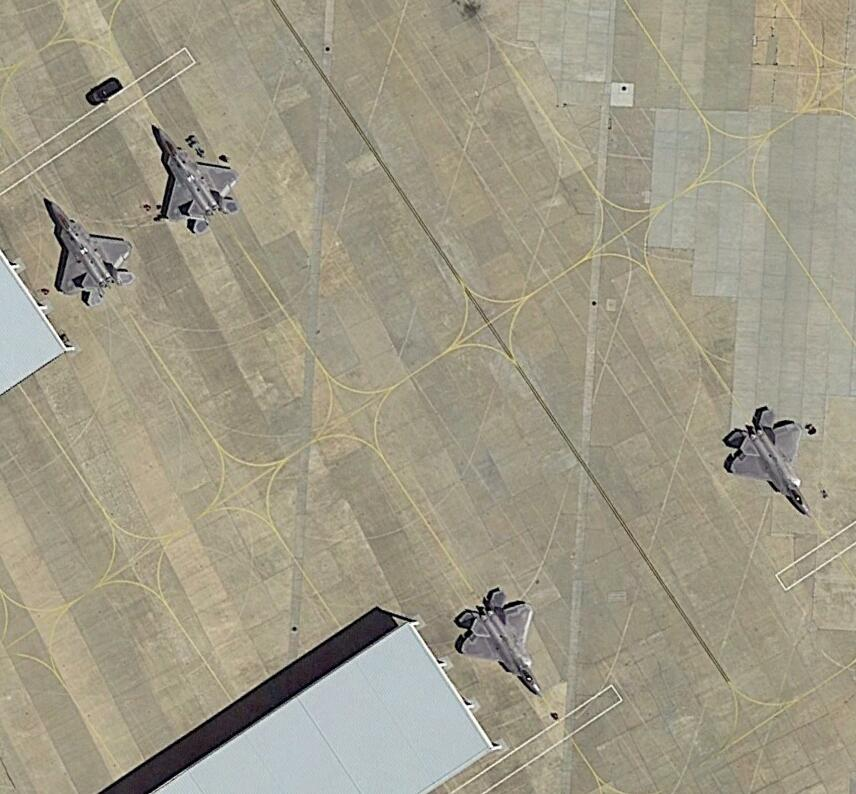A15: (452, 584, 547, 702), (721, 407, 815, 523), (44, 198, 137, 309), (152, 124, 240, 235)
